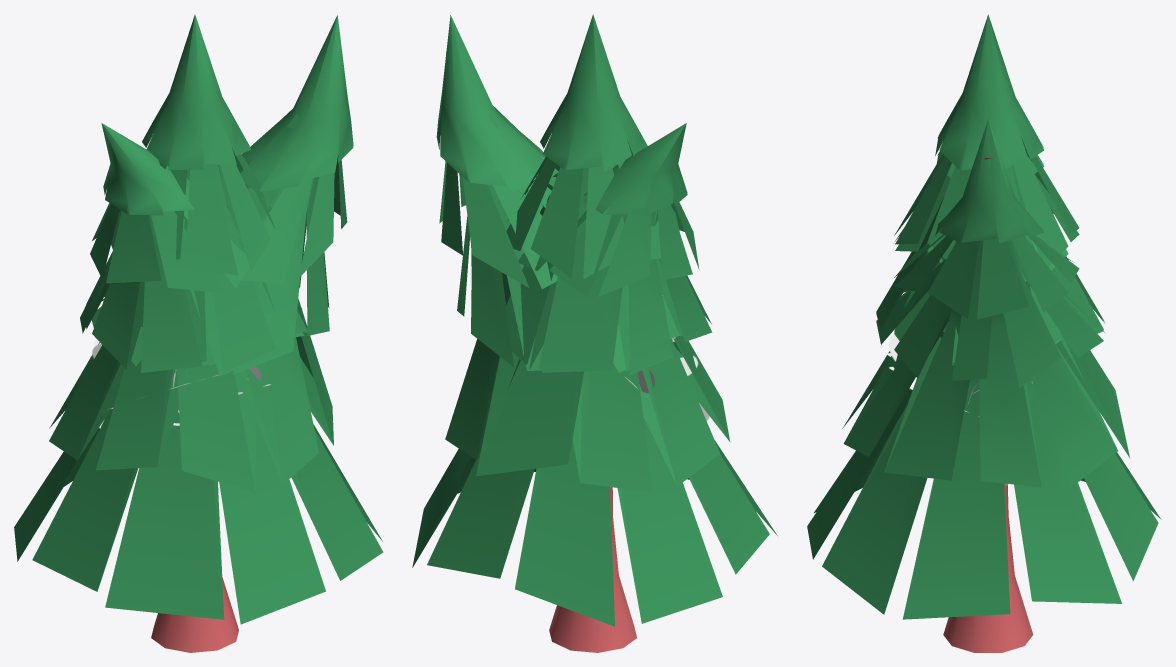
File: testVegetation.glb
The picture shows the model from 3 angles, left to right: view 1: azimuth 30°, elevation 25°; view 2: azimuth 150°, elevation 25°; view 3: azimuth 270°, elevation 25°; orthographic projection.
Visible parts, largest first — view 1: Pine.002, Pine, Pine.001; view 2: Pine, Pine.002, Pine.001; view 3: Pine.001, Pine, Pine.002.
Part boxes in pixels (bbox=[...]): Pine.002: bbox=[14, 123, 382, 619]; Pine: bbox=[41, 14, 378, 652]; Pine.001: bbox=[22, 15, 383, 617]; Pine: bbox=[415, 14, 774, 652]; Pine.002: bbox=[414, 123, 769, 623]; Pine.001: bbox=[412, 15, 777, 639]; Pine.001: bbox=[813, 119, 1161, 619]; Pine: bbox=[807, 14, 1154, 652]; Pine.002: bbox=[842, 151, 1156, 512].
Bounding box in the file's own units: 3.06 × 5.84 × 3.03.
3 materials, 1 textured.
